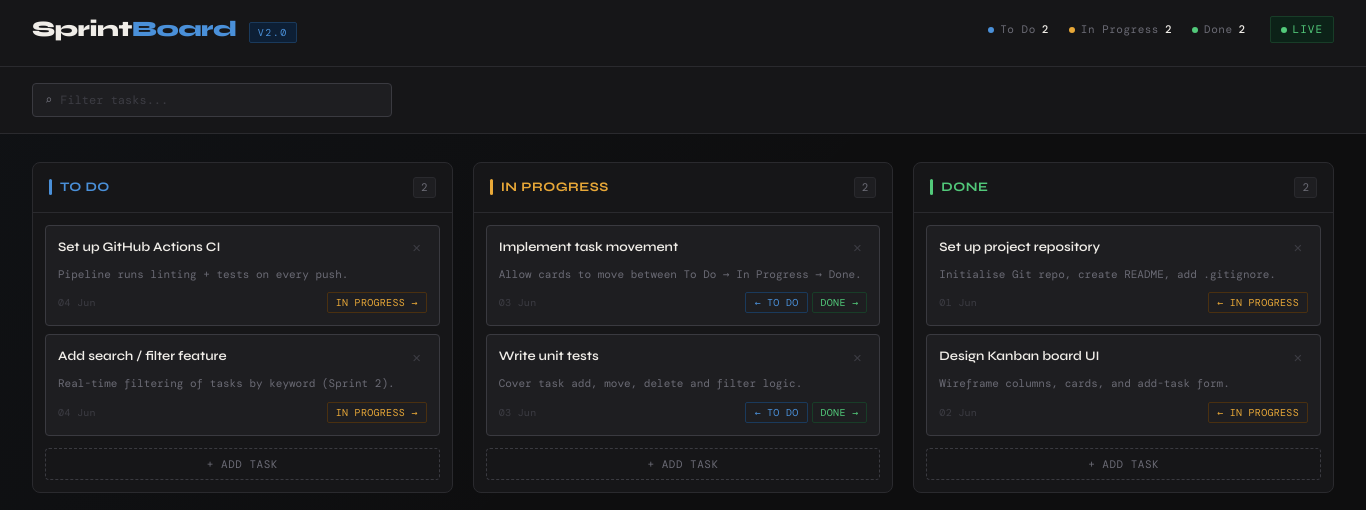
App › filters tasks by search query
Type "GitHub Actions" into the field with placeholder "Filter tasks..." at coordinates (220, 100), box [60, 92, 379, 108]
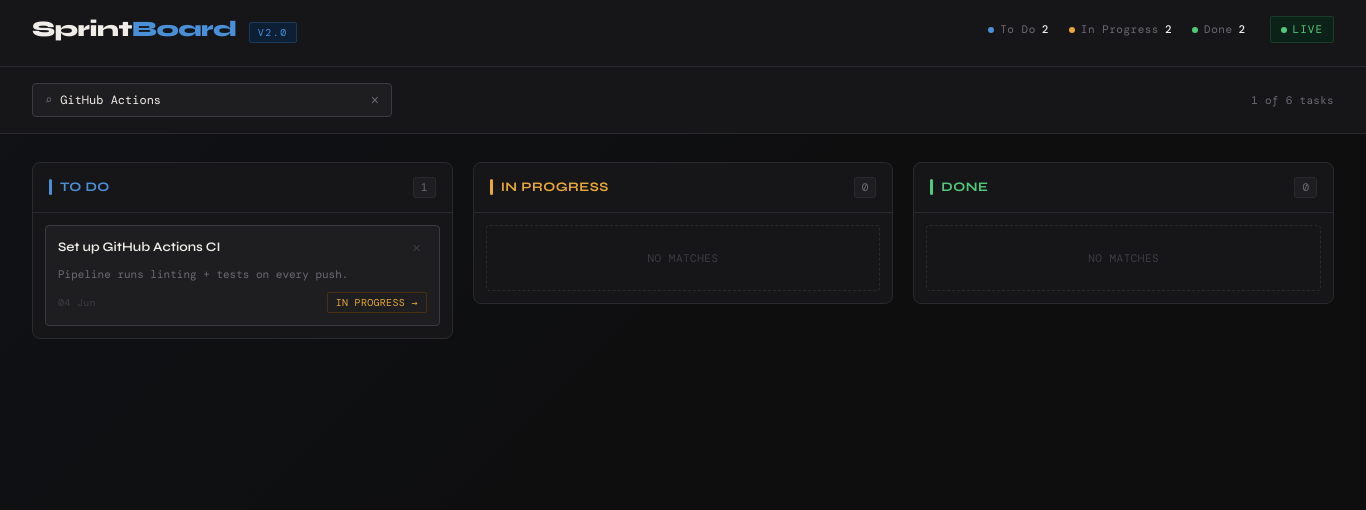
Expected: the heading "Set up GitHub Actions CI" is shown, [58, 238, 220, 256]
Expected: the heading "Design Kanban board UI" is gone
